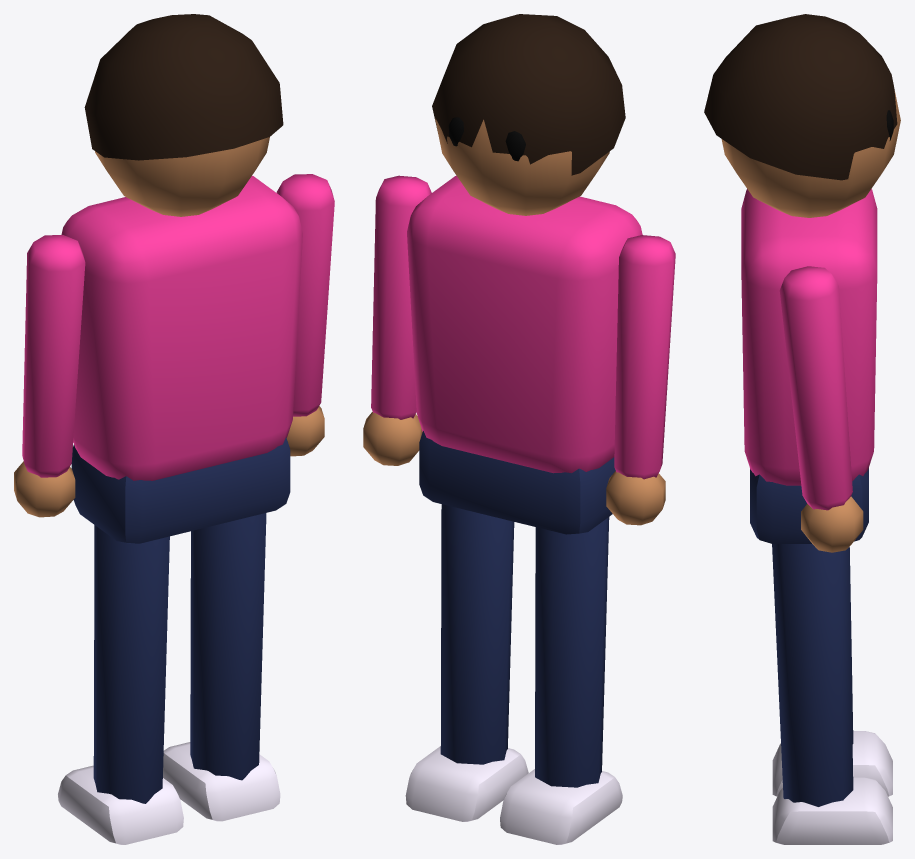
Rendered from pedestrian.glb.
3 views of the same model, side by side, from view 1: azimuth 30°, elevation 25°; view 2: azimuth 150°, elevation 25°; view 3: azimuth 270°, elevation 25° (orthographic). The views are drawn at different scales.
Visible parts, largest first — view 1: Body, LegLMesh, LegRMesh, ArmLMesh, ArmRMesh; view 2: Body, LegLMesh, LegRMesh, ArmLMesh, ArmRMesh; view 3: Body, LegRMesh, ArmRMesh, LegLMesh.
Boxes of the visible parts, x1=… form: Body: x1=61, y1=14, x2=302, y2=543; LegLMesh: x1=58, y1=525, x2=183, y2=844; LegRMesh: x1=163, y1=513, x2=280, y2=821; ArmLMesh: x1=14, y1=235, x2=85, y2=517; ArmRMesh: x1=276, y1=174, x2=334, y2=456; Body: x1=407, y1=14, x2=642, y2=534; LegLMesh: x1=500, y1=517, x2=622, y2=844; LegRMesh: x1=405, y1=504, x2=528, y2=821; ArmLMesh: x1=606, y1=235, x2=675, y2=525; ArmRMesh: x1=363, y1=175, x2=431, y2=465; Body: x1=704, y1=14, x2=900, y2=543; LegRMesh: x1=772, y1=544, x2=892, y2=844; ArmRMesh: x1=779, y1=266, x2=863, y2=552; LegLMesh: x1=772, y1=547, x2=892, y2=796.
Size of the model in its own units: 0.756 by 1.89 by 0.43.
